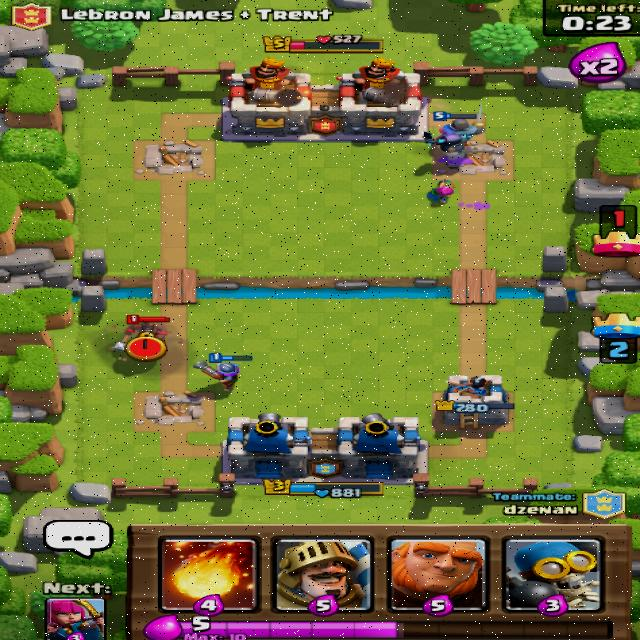Enemy-HogRider: (111, 313, 167, 351)
Player-Archer: (424, 178, 455, 204)
Player-Knight: (432, 102, 485, 135)
Player-MiniPEKKA: (423, 129, 471, 154)
Player-Musketeer: (189, 352, 253, 391)
